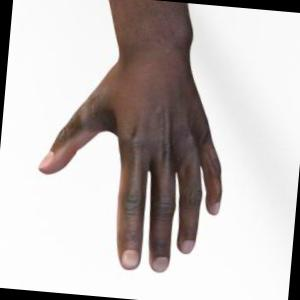paper: (39, 0, 220, 272)
